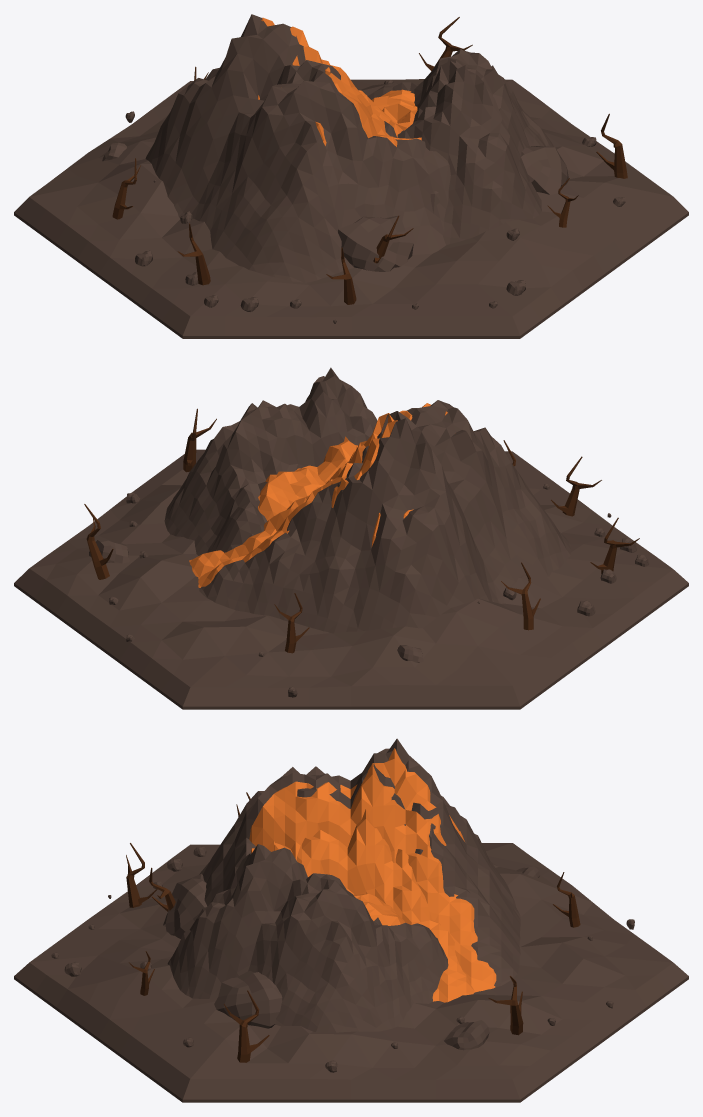
The model's file is scorchedmountains.glb.
The picture shows the model from 3 angles, top to bottom: view 1: azimuth 30°, elevation 25°; view 2: azimuth 150°, elevation 25°; view 3: azimuth 270°, elevation 25°; orthographic projection.
Visible parts, largest first — view 1: land, big_details; view 2: land, big_details; view 3: land, big_details.
Boxes of the visible parts, x1,y1,x2,y2 form: land: (14, 14, 688, 338); big_details: (112, 17, 627, 304); land: (14, 367, 688, 709); big_details: (84, 403, 639, 653); land: (14, 738, 688, 1102); big_details: (126, 748, 580, 1062).
Bounding box in the file's own units: 1.73 × 0.6651 × 2.
